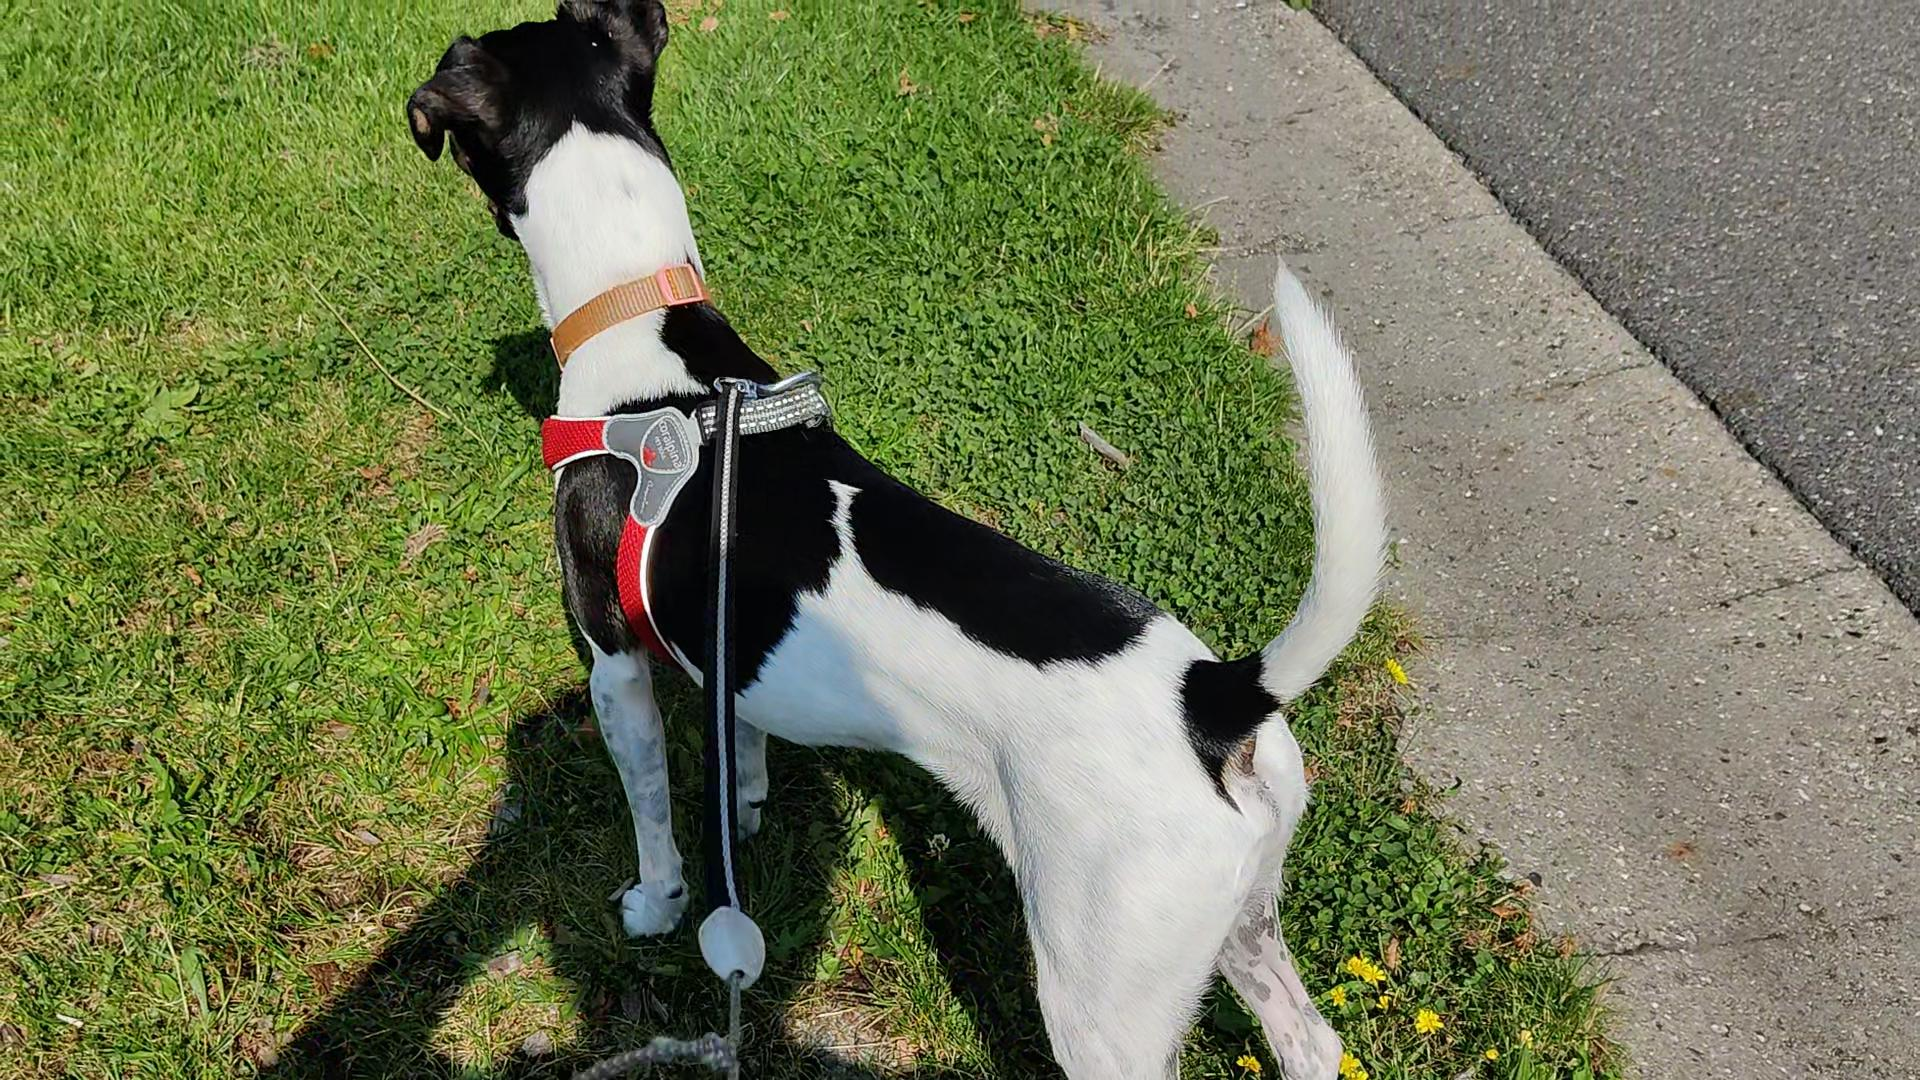Dog: (407, 0, 1381, 1079)
